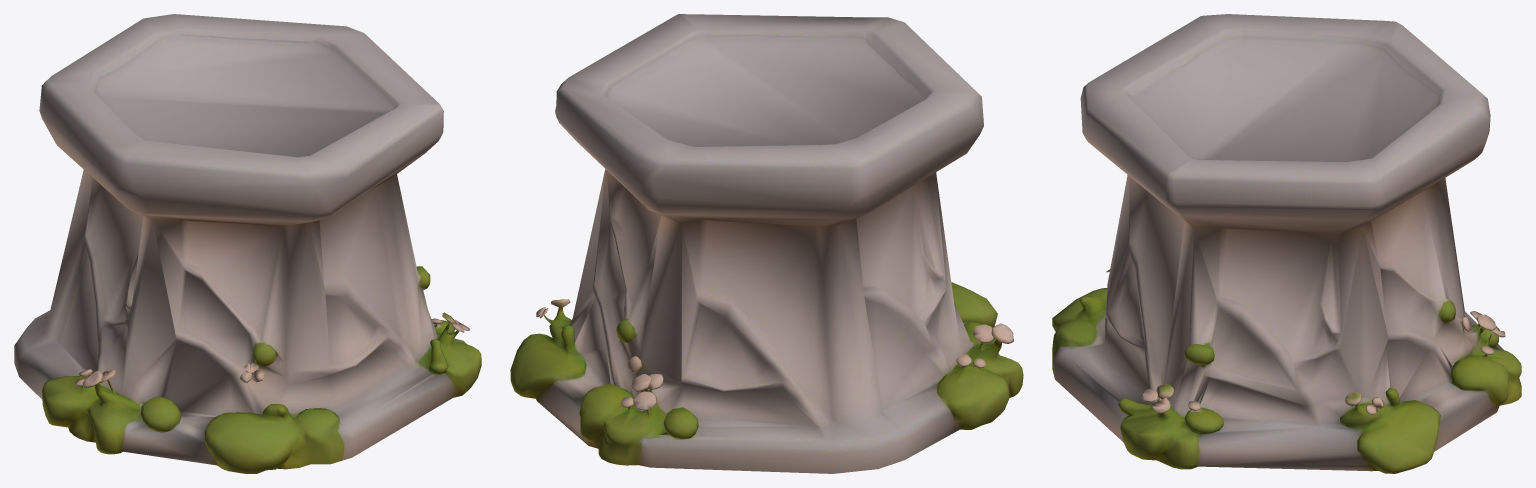
The model's file is model_web.glb.
The picture shows the model from 3 angles, left to right: view 1: azimuth 30°, elevation 25°; view 2: azimuth 150°, elevation 25°; view 3: azimuth 270°, elevation 25°; orthographic projection. The views are drawn at different scales.
Visible parts, largest first — view 1: tripo_node_b8bc24bd-7f68-4c5f-81b0-61ba18eb564d; view 2: tripo_node_b8bc24bd-7f68-4c5f-81b0-61ba18eb564d; view 3: tripo_node_b8bc24bd-7f68-4c5f-81b0-61ba18eb564d.
Part boxes in pixels (<box>): tripo_node_b8bc24bd-7f68-4c5f-81b0-61ba18eb564d: <box>14,14,481,473</box>; tripo_node_b8bc24bd-7f68-4c5f-81b0-61ba18eb564d: <box>510,14,1023,473</box>; tripo_node_b8bc24bd-7f68-4c5f-81b0-61ba18eb564d: <box>1052,14,1521,473</box>.
Size of the model in its own units: 0.998 by 0.6895 by 0.998.
Materials: 1 (1 with a texture image).
